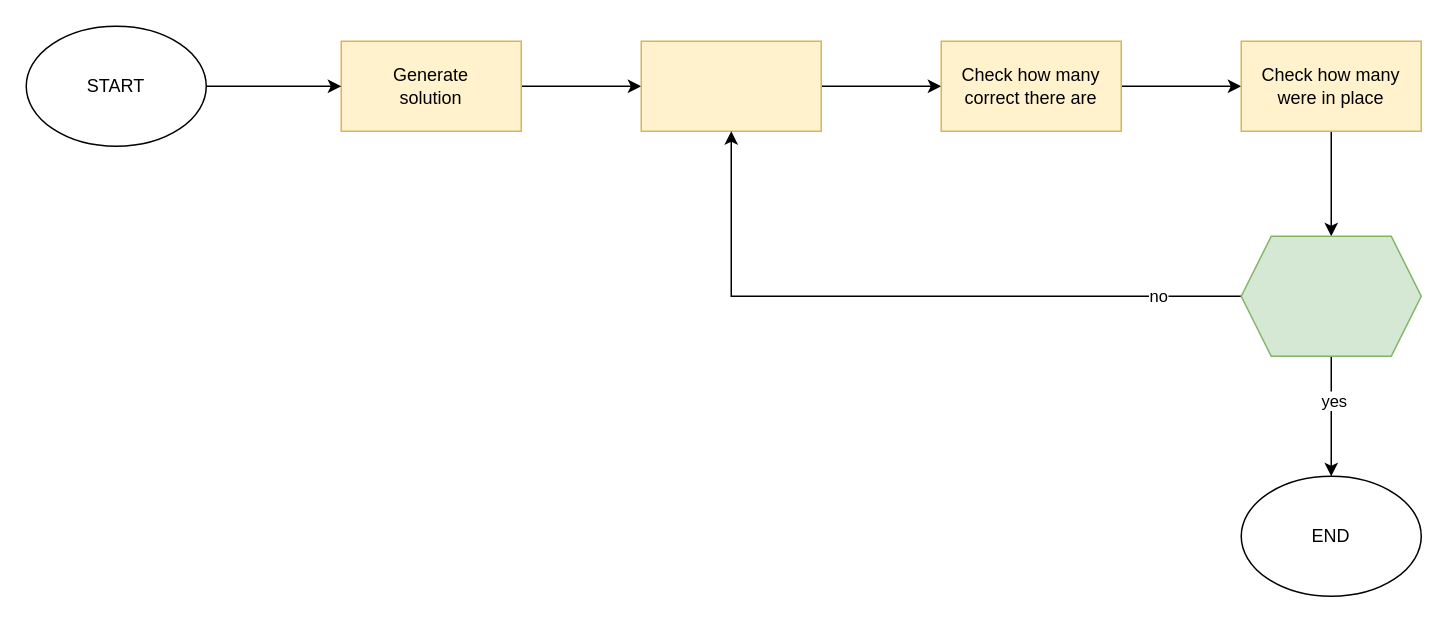
The diagram is 1448 pixels wide and 623 high, and some of its shapes have lost their labels. Each missing label, with the box of its shape:
All correct?: (1240, 235, 1421, 356)
Ask for input: (640, 40, 821, 131)
